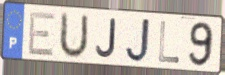9: (187, 21, 215, 69)
E: (27, 11, 57, 58)
J: (124, 16, 152, 63), (94, 17, 117, 60)
L: (157, 20, 181, 65)
U: (57, 10, 90, 60)
